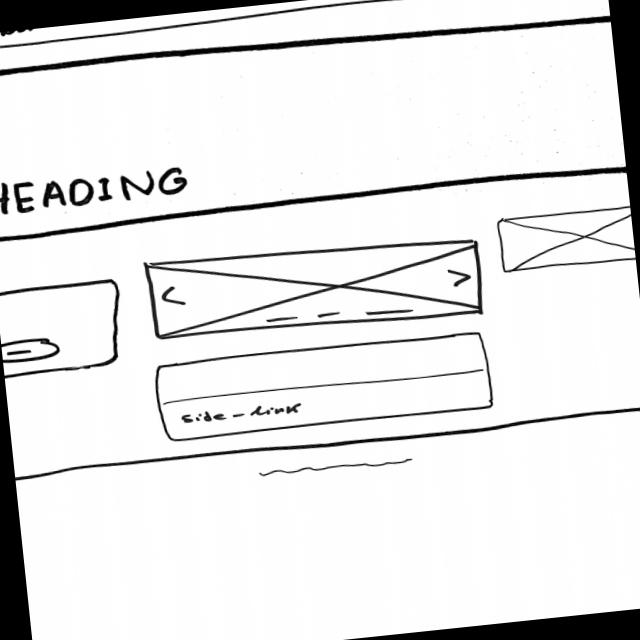container: (0, 2, 626, 240), (152, 327, 498, 445), (0, 0, 606, 50), (0, 274, 130, 380)
image: (140, 225, 488, 349), (495, 202, 636, 276)
label: (0, 157, 190, 215), (178, 398, 306, 427), (0, 26, 58, 42)
text: (254, 453, 414, 482), (1, 334, 64, 364)
